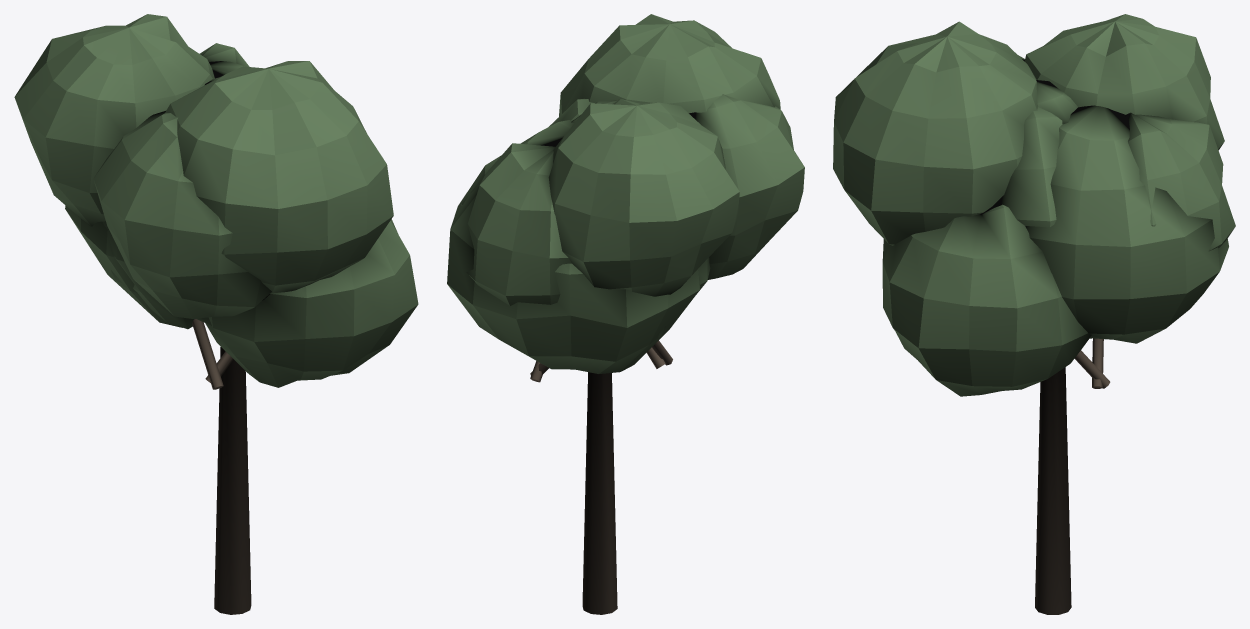
The model's file is tree.glb.
The picture shows the model from 3 angles, left to right: view 1: azimuth 30°, elevation 25°; view 2: azimuth 150°, elevation 25°; view 3: azimuth 270°, elevation 25°; orthographic projection. The views are drawn at different scales.
Parts seen in each view (by area): view 1: LeafMesh, TrunkMesh; view 2: LeafMesh, TrunkMesh; view 3: LeafMesh, TrunkMesh.
Boxes of the visible parts, x1,y1,x2,y2 form: LeafMesh: [14, 14, 418, 387]; TrunkMesh: [192, 319, 251, 614]; LeafMesh: [447, 14, 804, 373]; TrunkMesh: [530, 340, 672, 614]; LeafMesh: [833, 14, 1235, 396]; TrunkMesh: [1035, 338, 1110, 614].
Bounding box in the file's own units: 3.64 × 6.77 × 4.4.
